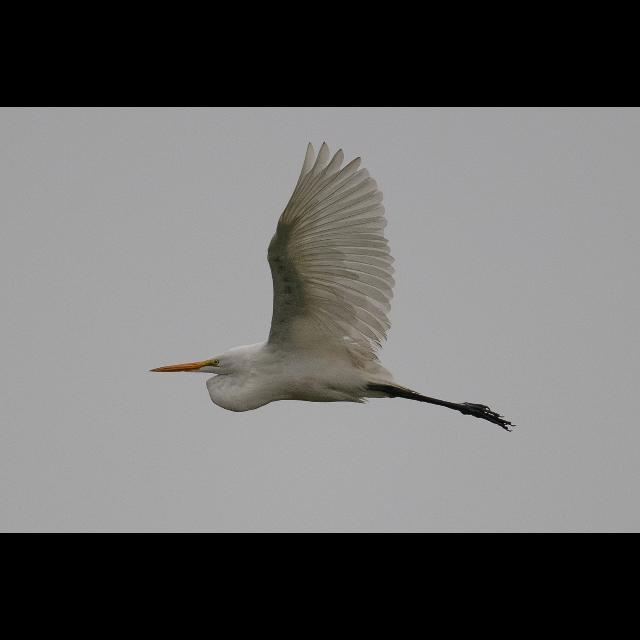egret: (148, 144, 520, 432)
